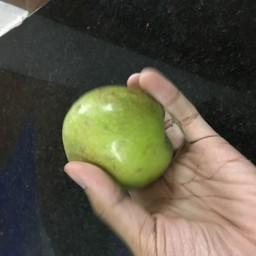Bad_apple: (54, 86, 176, 179)
